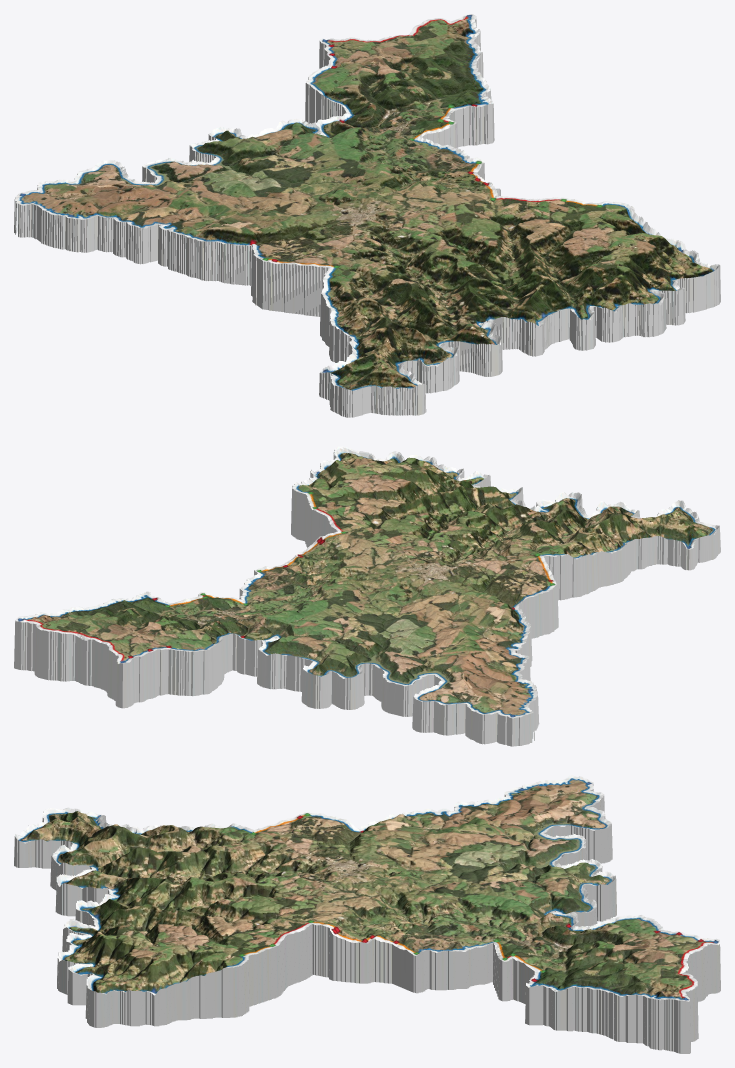
The picture shows the model from 3 angles, top to bottom: view 1: azimuth 30°, elevation 25°; view 2: azimuth 150°, elevation 25°; view 3: azimuth 270°, elevation 25°; orthographic projection. The views are drawn at different scales.
Size of the model in its own units: 1 by 0.1 by 1.21.
1 material, 1 textured.
